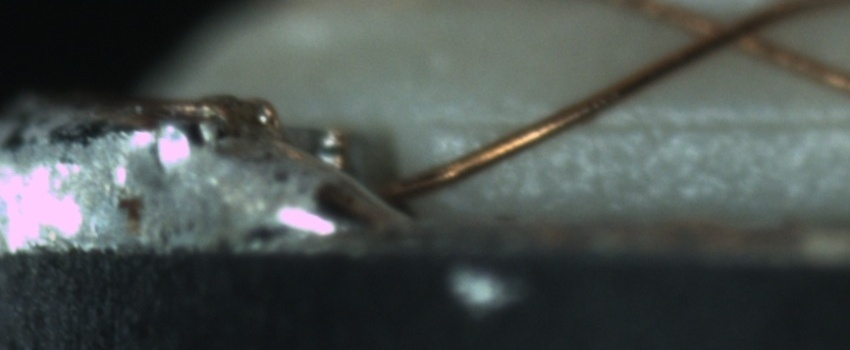CL: (687, 2, 780, 59)
DL: (425, 97, 849, 154)
TE: (147, 91, 351, 180)
